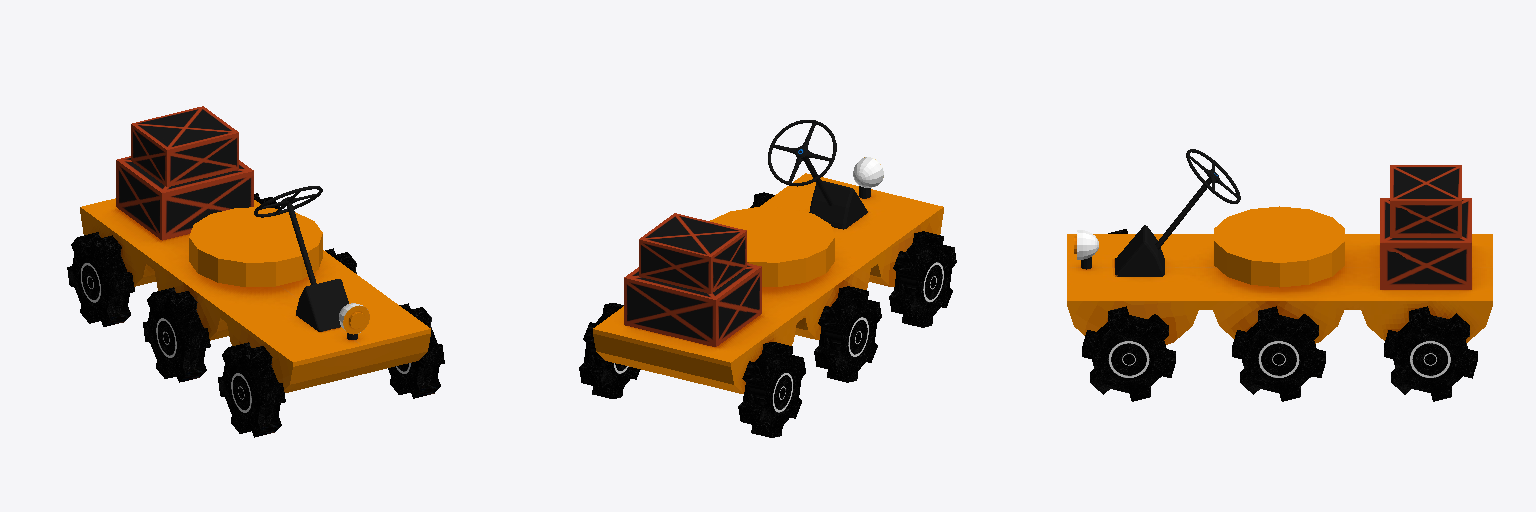
3 views of the same model, side by side, from view 1: azimuth 30°, elevation 25°; view 2: azimuth 150°, elevation 25°; view 3: azimuth 270°, elevation 25° (orthographic).
Visible parts, largest first — view 1: carrito; view 2: carrito; view 3: carrito.
Part boxes in pixels (left/top/right/bottom): carrito: left=67, top=106, right=444, bottom=437; carrito: left=579, top=120, right=956, bottom=437; carrito: left=1067, top=149, right=1492, bottom=401.
Bounding box in the file's own units: 12.7 × 13.73 × 25.97.
Materials: 1 (1 with a texture image).